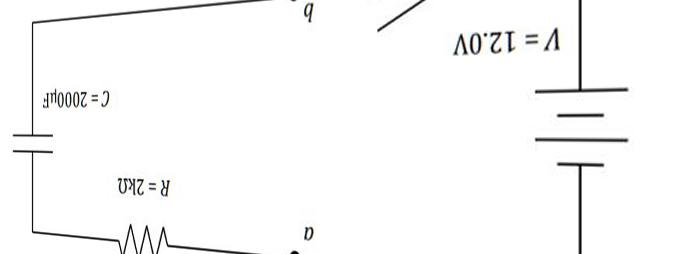Battery: (508, 73, 641, 192)
